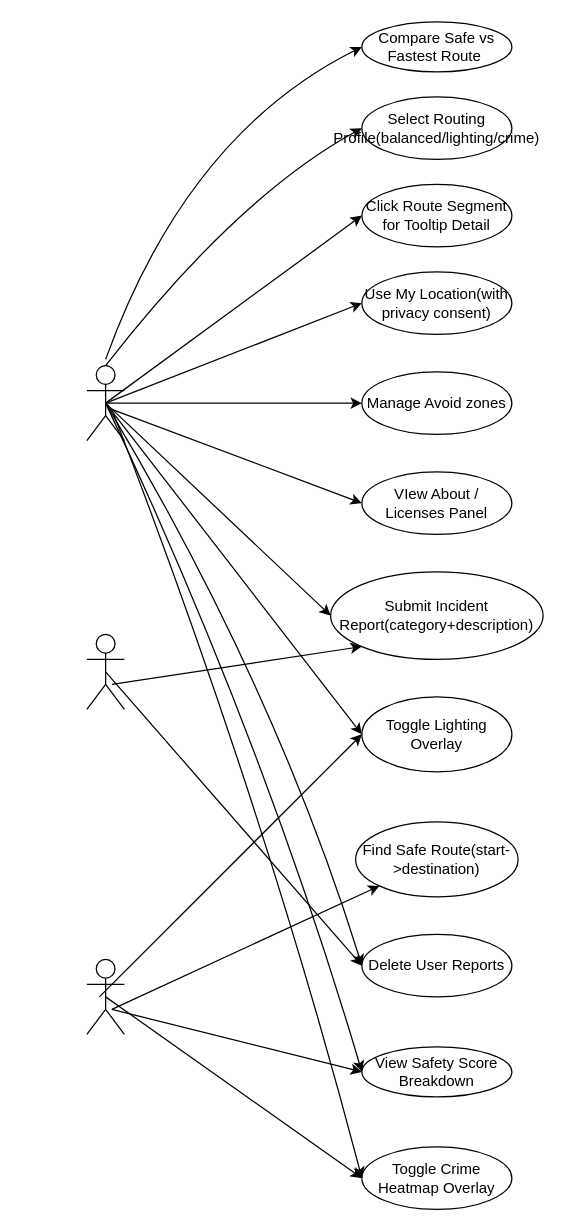
Image size: 565x1231. Some labels were removed from this diagram. Each missing label, with the box of its shape:
Administrator: (86, 633, 124, 709)
City Planner/ Researcher: (86, 958, 124, 1034)
Pedestrian User: (86, 364, 124, 441)
